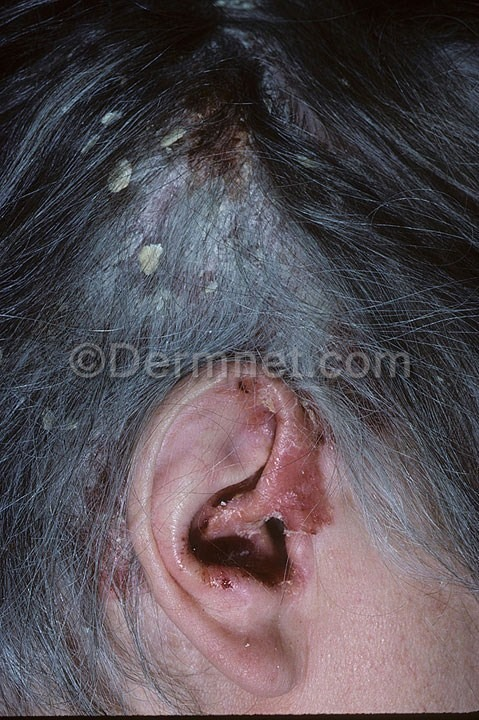Psoriasis: (195, 373, 350, 595), (86, 103, 194, 300), (46, 409, 142, 617), (200, 90, 274, 209)
